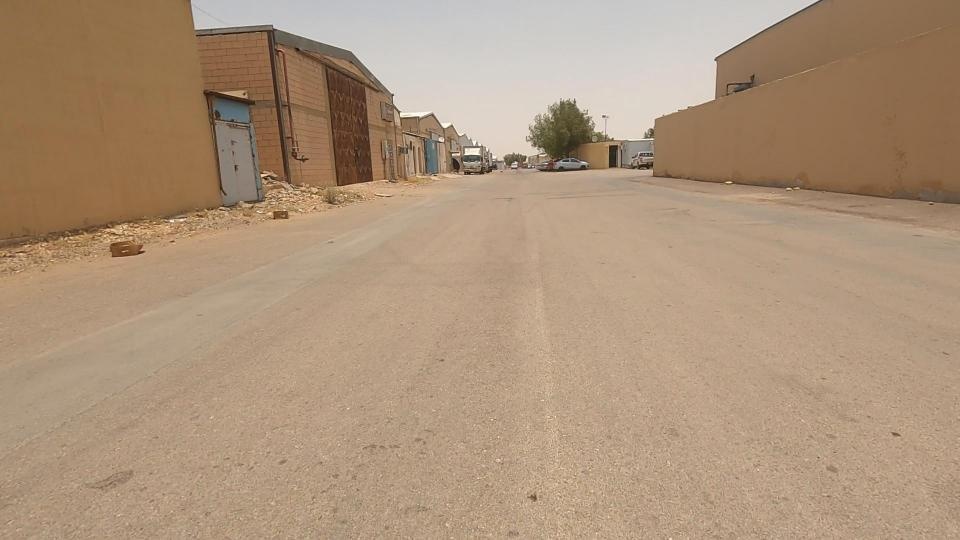GARBAGE: (80, 224, 165, 282), (246, 195, 318, 239), (704, 158, 755, 206), (357, 175, 411, 219), (762, 170, 815, 208)
